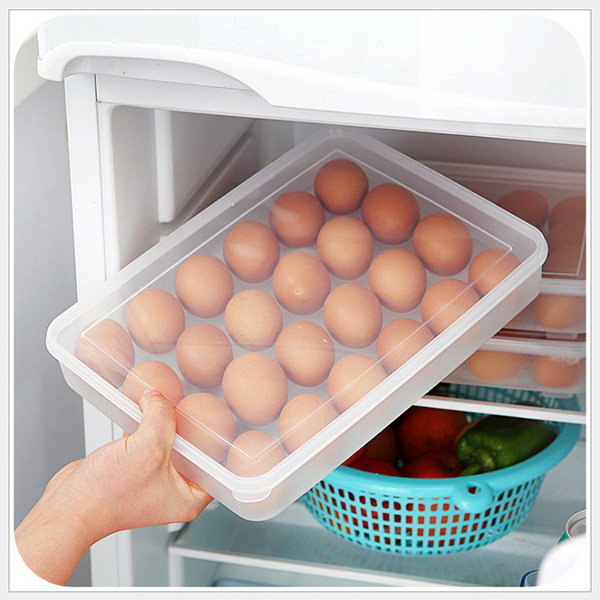egg: (72, 157, 524, 482)
